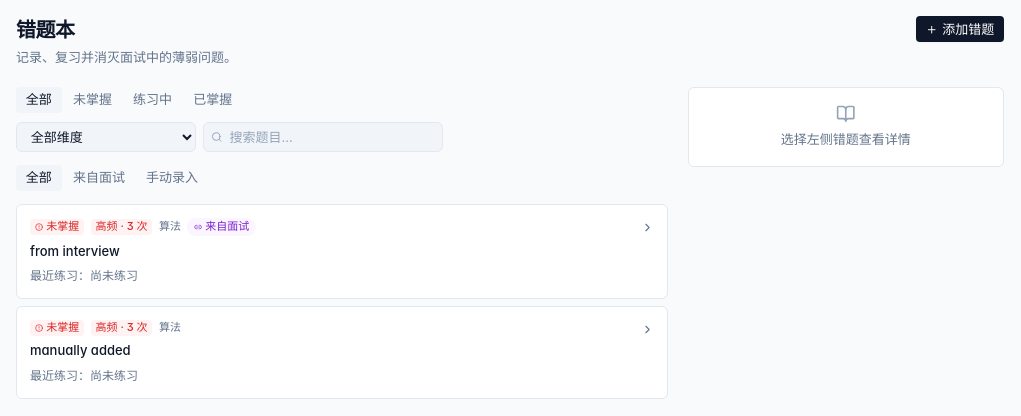
Test: ErrorBook page — source filter UI (020 D-009) › source filter "手动录入" shows only manual items
Step 1. Click the tab with test id "error-source-filter-manual" → (172, 178), box [136,164,208,190]
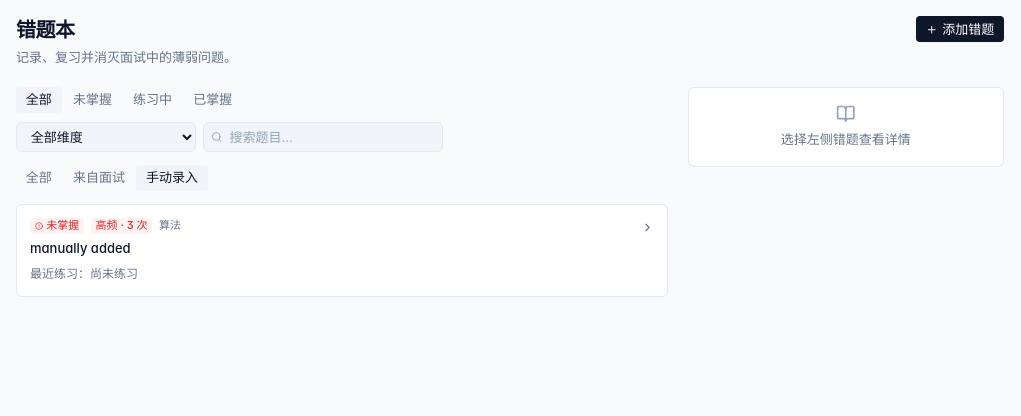
Expected: the button with test id "error-question-eq-manual" is shown, [16,204,668,297]
Result: the button with test id "error-question-eq-sourced" is gone
